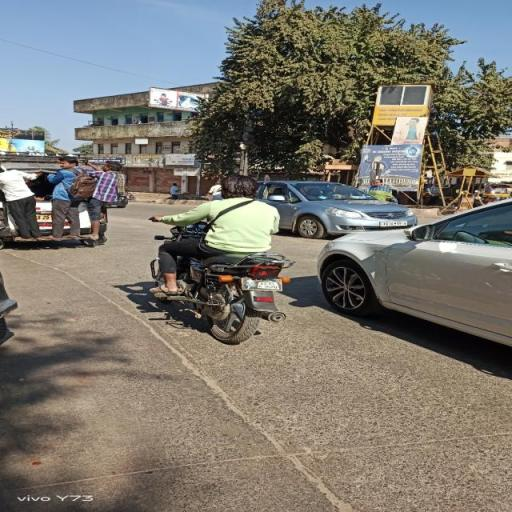bike: (147, 174, 302, 346)
numberplate: (240, 278, 282, 292)
withouthelmet: (222, 176, 257, 198)
